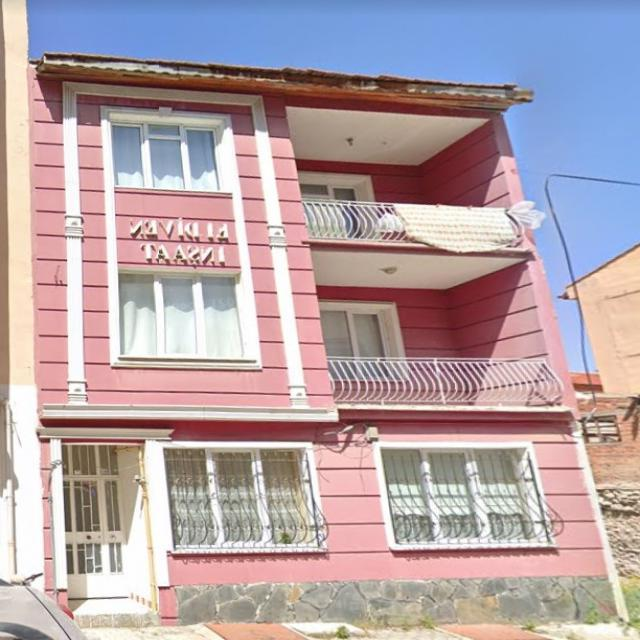Building: (25, 54, 629, 627)
